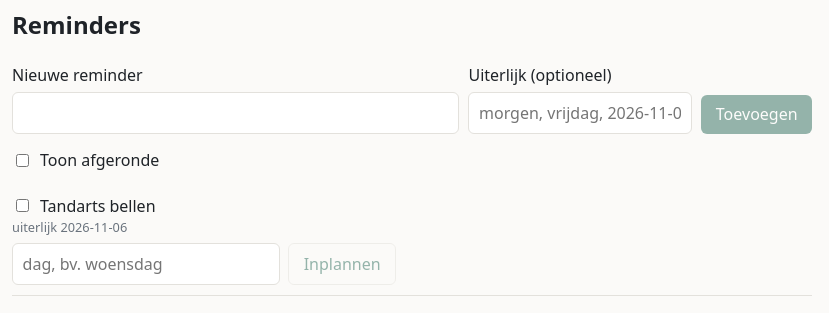
Test case: RemindersPage › marks a reminder done
Click the checkbox labelled "Tandarts bellen": (22, 206) x1=16 y1=199 x2=29 y2=212
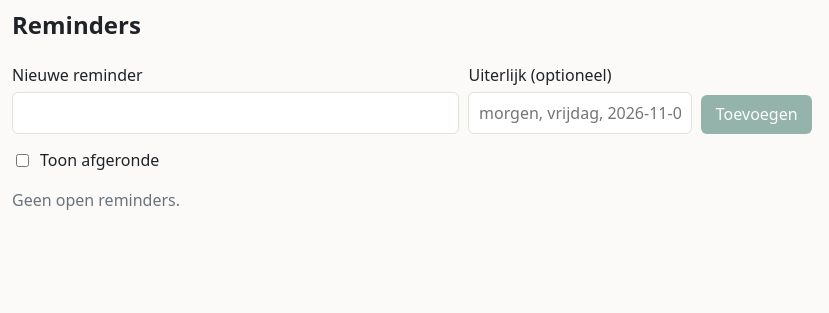
Now the text "Geen open reminders." is shown, box x1=12 y1=189 x2=180 y2=211
